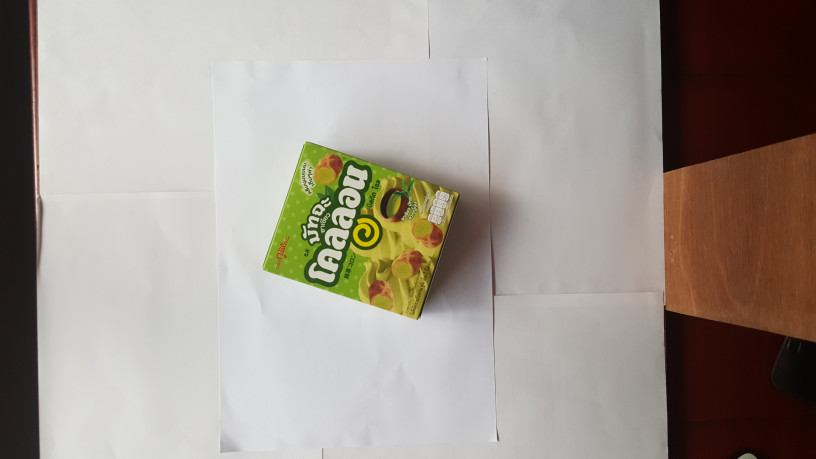collon-matcha: (261, 138, 460, 324)
